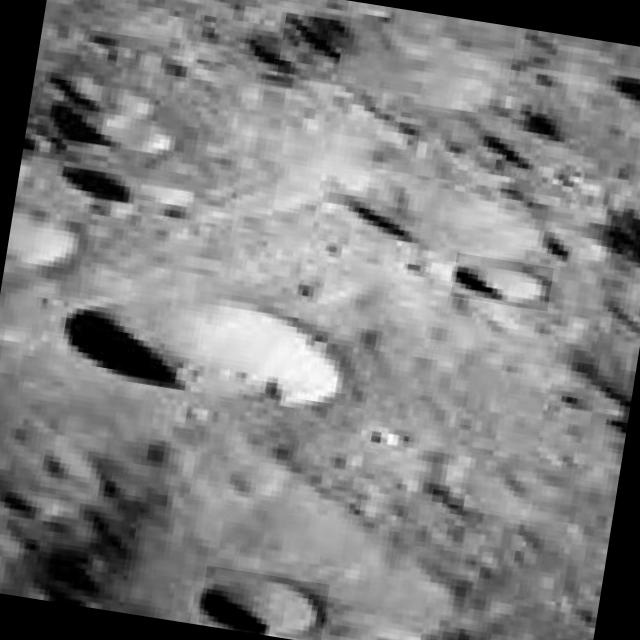crater: (65, 281, 358, 418), (198, 565, 330, 640), (450, 253, 554, 311)
